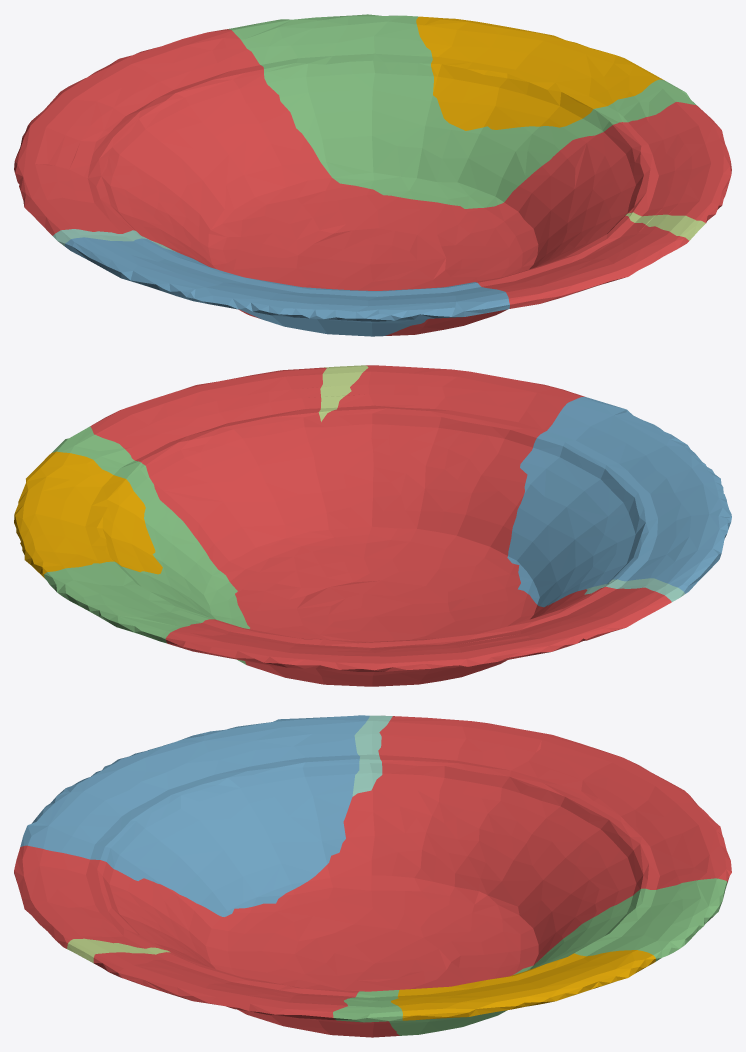
The model's file is fractured_44_6pcs.glb.
The picture shows the model from 3 angles, top to bottom: view 1: azimuth 30°, elevation 25°; view 2: azimuth 150°, elevation 25°; view 3: azimuth 270°, elevation 25°; orthographic projection.
Parts seen in each view (by area): view 1: piece_1.obj, piece_3.obj, piece_0.obj, piece_2.obj, piece_5.obj, piece_4.obj; view 2: piece_1.obj, piece_2.obj, piece_3.obj, piece_0.obj, piece_5.obj, piece_4.obj; view 3: piece_1.obj, piece_2.obj, piece_3.obj, piece_0.obj, piece_4.obj, piece_5.obj.
Part boxes in pixels (x1=…): piece_1.obj: x1=14, y1=29, x2=731, y2=335; piece_3.obj: x1=228, y1=14, x2=698, y2=208; piece_0.obj: x1=416, y1=16, x2=664, y2=130; piece_2.obj: x1=64, y1=237, x2=509, y2=336; piece_5.obj: x1=625, y1=212, x2=705, y2=240; piece_4.obj: x1=53, y1=229, x2=175, y2=251; piece_1.obj: x1=90, y1=365, x2=671, y2=686; piece_2.obj: x1=507, y1=397, x2=731, y2=607; piece_3.obj: x1=44, y1=426, x2=249, y2=664; piece_0.obj: x1=14, y1=451, x2=162, y2=578; piece_5.obj: x1=318, y1=365, x2=368, y2=421; piece_4.obj: x1=584, y1=578, x2=684, y2=601; piece_1.obj: x1=14, y1=716, x2=731, y2=1037; piece_2.obj: x1=20, y1=715, x2=369, y2=916; piece_3.obj: x1=333, y1=878, x2=727, y2=1035; piece_0.obj: x1=391, y1=950, x2=655, y2=1020; piece_4.obj: x1=352, y1=715, x2=392, y2=796; piece_5.obj: x1=67, y1=938, x2=170, y2=963.
Bounding box in the file's own units: 1 × 0.1832 × 0.9983.
